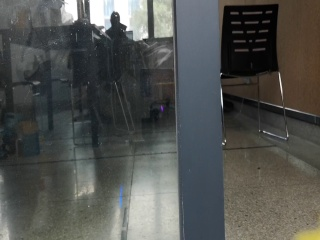room: (3, 1, 317, 240)
